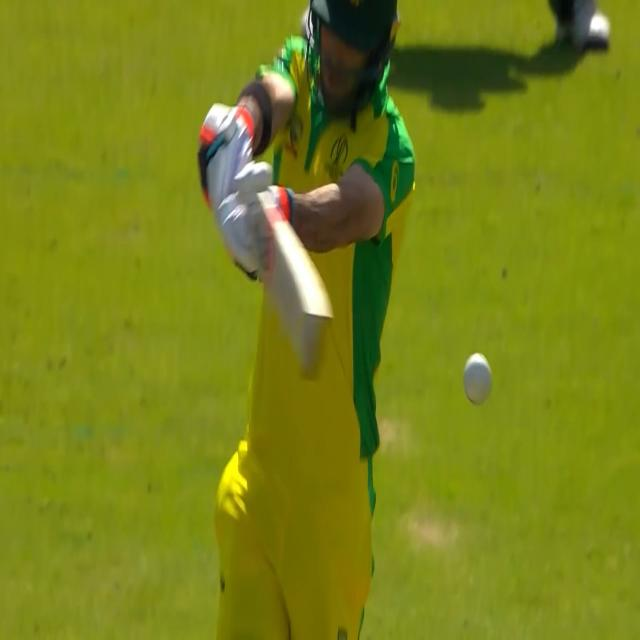ball: (453, 354, 497, 409)
